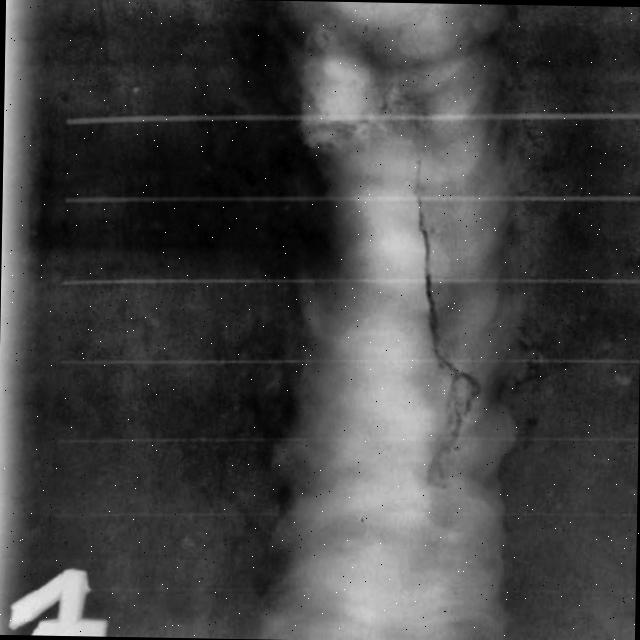Crack: (376, 143, 504, 525)
